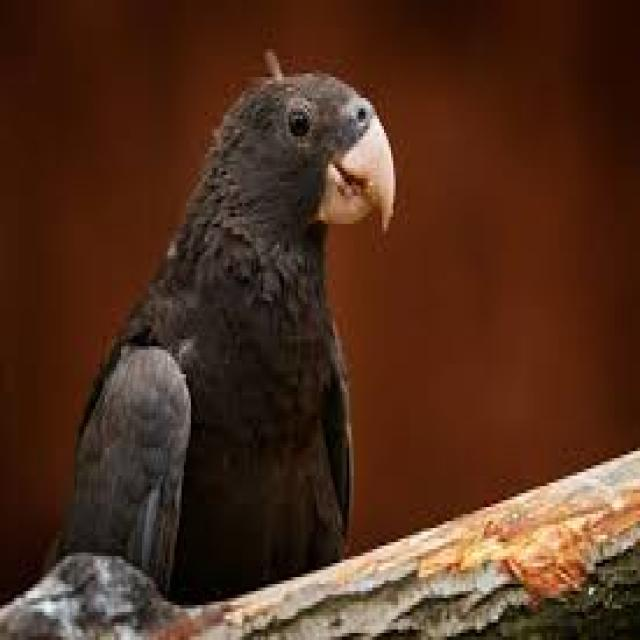Nuri Hitam: (62, 0, 398, 640)
